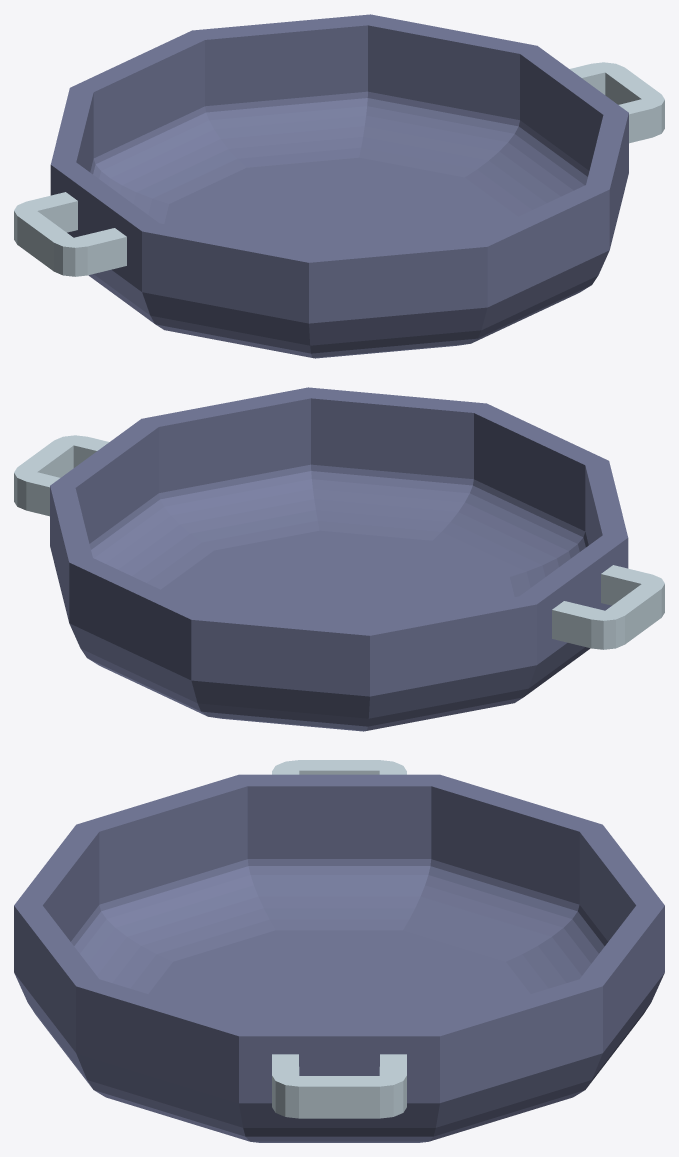
The model's file is pan.fbx.
3 views of the same model, one above another, from view 1: azimuth 30°, elevation 25°; view 2: azimuth 150°, elevation 25°; view 3: azimuth 270°, elevation 25° (orthographic). The views are drawn at different scales.
Parts seen in each view (by area): view 1: Cylinder, Cube.001, Cube; view 2: Cylinder, Cube.001, Cube; view 3: Cylinder, Cube, Cube.001.
Part boxes in pixels (<box>): Cylinder: <box>50,14,628,358</box>; Cube.001: <box>14,192,126,276</box>; Cube: <box>569,62,664,143</box>; Cylinder: <box>50,387,628,731</box>; Cube.001: <box>552,565,664,649</box>; Cube: <box>14,435,109,516</box>; Cylinder: <box>14,774,664,1142</box>; Cube: <box>272,1054,406,1118</box>; Cube.001: <box>272,760,406,774</box>.
Bounding box in the file's own units: 237 × 49.24 × 200.
